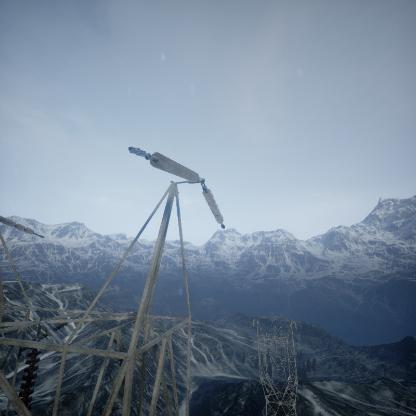insulator: (127, 137, 206, 184), (199, 180, 228, 230)
tower: (249, 315, 306, 416)
